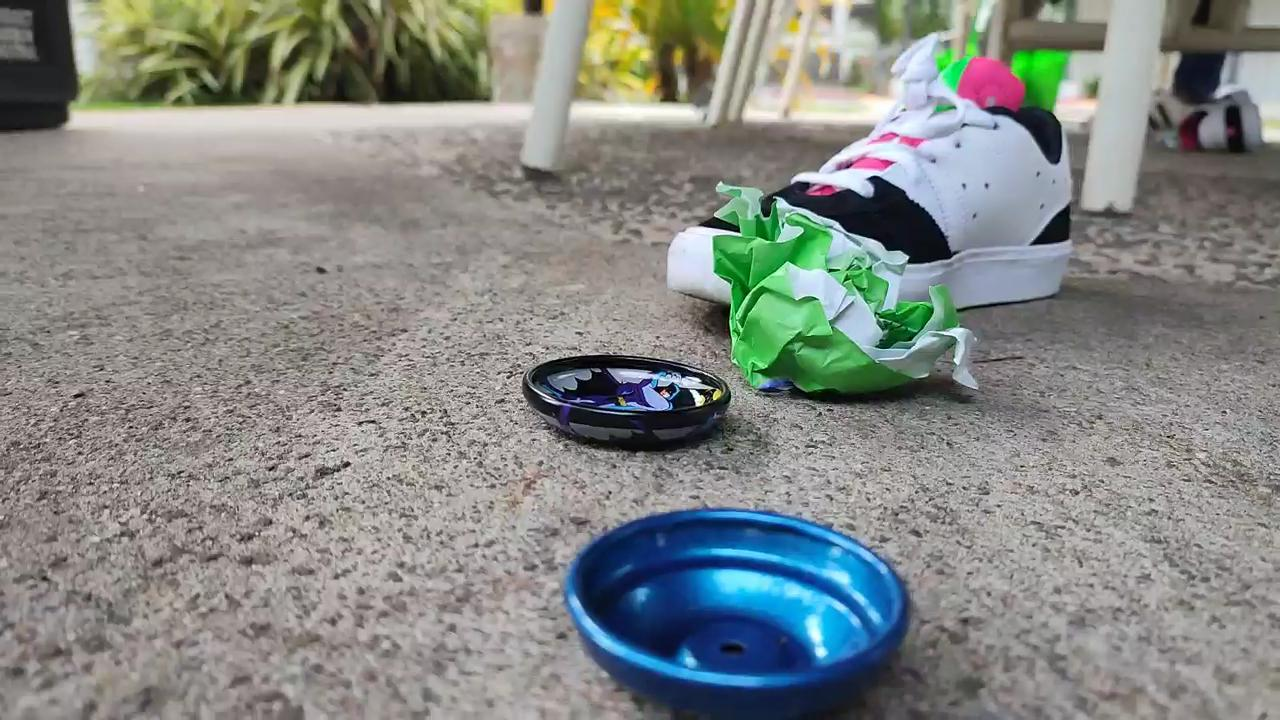Paper: (699, 170, 984, 398)
